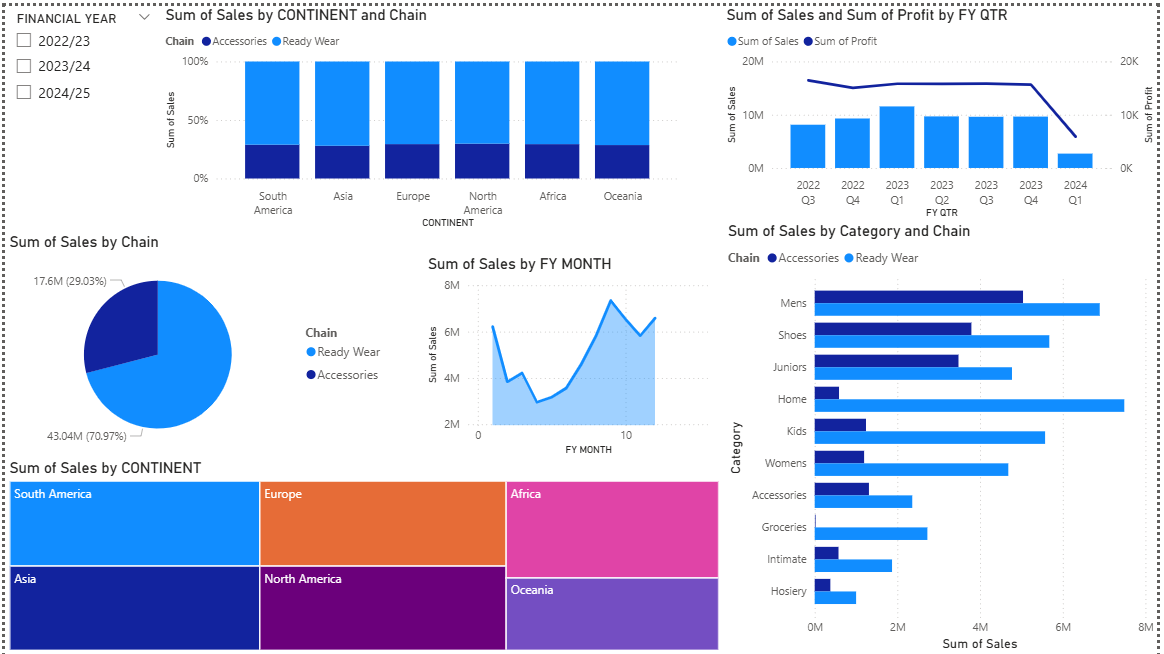

What the dashboard file says about the page in this screenshot:
{"tool":"powerbi","page":{"name":"Page 1","canvas":[1280,720],"ordinal":0},"visuals":[{"type":"areaChart","fields":{"Y":["Sum(Sales.Sales)"],"Category":["Date_Mapping.FY MONTH"]},"box":[464.9,275.9,321.3,226.8],"z":0},{"type":"hundredPercentStackedColumnChart","fields":{"Y":["Sum(Sales.Sales)"],"Category":["Country_Mapping.CONTINENT"],"Series":["Sales.Chain"]},"box":[173.9,0,580.2,251.3],"z":1000},{"type":"lineClusteredColumnComboChart","fields":{"Category":["Date_Mapping.FY QTR"],"Y":["Sum(Sales.Sales)"],"Y2":["Sum(Sales.Profit)"]},"box":[796.7,0,484.1,239.6],"z":2000},{"type":"pieChart","fields":{"Category":["Sales.Chain"],"Y":["Sum(Sales.Sales)"]},"box":[0,251.3,430.9,251.3],"z":3000},{"type":"clusteredBarChart","fields":{"Y":["Sum(Sales.Sales)"],"Category":["Sales.Category"],"Series":["Sales.Chain"]},"box":[798.3,239.6,482.5,480.9],"z":5000},{"type":"treemap","fields":{"Group":["Country_Mapping.CONTINENT"],"Values":["Sum(Sales.Sales)"]},"box":[0,502.7,797.5,217.3],"z":6000},{"type":"slicer","fields":{"Values":["Date_Mapping.FINANCIAL YEAR"]},"box":[0,0,173.9,204.1],"z":7000}]}

Visuals, with their boxes in screenshot pixels (x1, y1, x2, y2), scaled from the page's 1280x720 canvas onto the 1164x654 screenshot:
areaChart - Sum(Sales.Sales) x Date_Mapping.FY MONTH: rect(423, 251, 715, 457)
hundredPercentStackedColumnChart - Sum(Sales.Sales) x Country_Mapping.CONTINENT: rect(158, 0, 686, 228)
lineClusteredColumnComboChart - Date_Mapping.FY QTR x Sum(Sales.Sales): rect(724, 0, 1163, 218)
pieChart - Sales.Chain x Sum(Sales.Sales): rect(0, 228, 392, 457)
clusteredBarChart - Sum(Sales.Sales) x Sales.Category: rect(726, 218, 1163, 653)
treemap - Country_Mapping.CONTINENT x Sum(Sales.Sales): rect(0, 457, 725, 653)
slicer - Date_Mapping.FINANCIAL YEAR: rect(0, 0, 158, 185)
